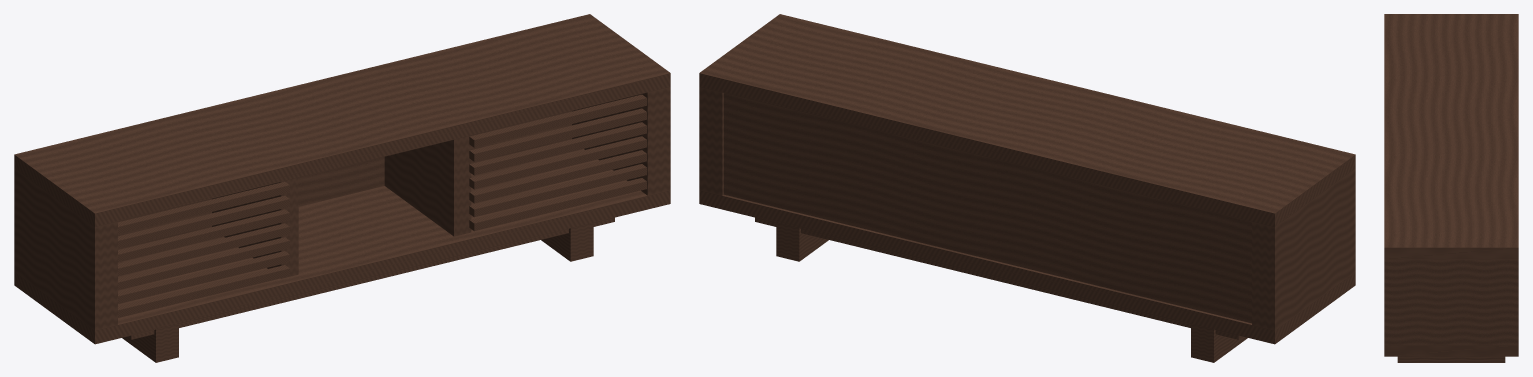
The picture shows the model from 3 angles, left to right: view 1: azimuth 30°, elevation 25°; view 2: azimuth 150°, elevation 25°; view 3: azimuth 270°, elevation 25°; orthographic projection. The views are drawn at different scales.
Parts seen in each view (by area): view 1: 1 top_panel, 2 bottom_panel, 3 left_side_panel, 7 right_inner_divider, 5 back_panel, 4 right_side_panel, 18 right_door_slat_1, 21 right_door_slat_4, 22 right_door_slat_5, 24 right_door_slat_7, 20 right_door_slat_3, 23 right_door_slat_6 (+12 smaller); view 2: 1 top_panel, 5 back_panel, 3 left_side_panel, 2 bottom_panel, 4 right_side_panel, 8 base_apron, 9 left_leg, 10 right_leg; view 3: 1 top_panel, 4 right_side_panel, 2 bottom_panel, 10 right_leg.
Part boxes in pixels (x1,y1,x2,y2): 1 top_panel: (14, 14, 670, 227); 2 bottom_panel: (14, 149, 670, 344); 3 left_side_panel: (14, 168, 117, 330); 7 right_inner_divider: (384, 135, 471, 236); 5 back_panel: (118, 111, 571, 249); 4 right_side_panel: (572, 87, 670, 195); 18 right_door_slat_1: (469, 178, 646, 231); 21 right_door_slat_4: (469, 136, 646, 189); 22 right_door_slat_5: (469, 122, 646, 175); 24 right_door_slat_7: (469, 94, 646, 147); 20 right_door_slat_3: (469, 150, 646, 203); 23 right_door_slat_6: (469, 108, 646, 161); 1 top_panel: (699, 14, 1355, 227); 5 back_panel: (724, 93, 1251, 323); 3 left_side_panel: (1252, 168, 1355, 330); 2 bottom_panel: (699, 190, 1355, 344); 4 right_side_panel: (699, 87, 723, 195); 8 base_apron: (755, 217, 1242, 339); 9 left_leg: (1191, 324, 1247, 362); 10 right_leg: (776, 223, 828, 261); 1 top_panel: (1384, 14, 1518, 259); 4 right_side_panel: (1384, 259, 1518, 345); 2 bottom_panel: (1384, 345, 1518, 356); 10 right_leg: (1397, 356, 1505, 362).
Size of the model in its own units: 3.5 by 1 by 0.85.
Materials: 1 (1 with a texture image).
